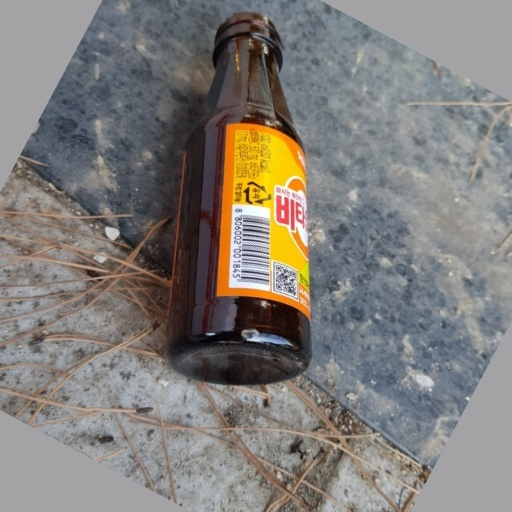Glass_3: (156, 11, 314, 387)
